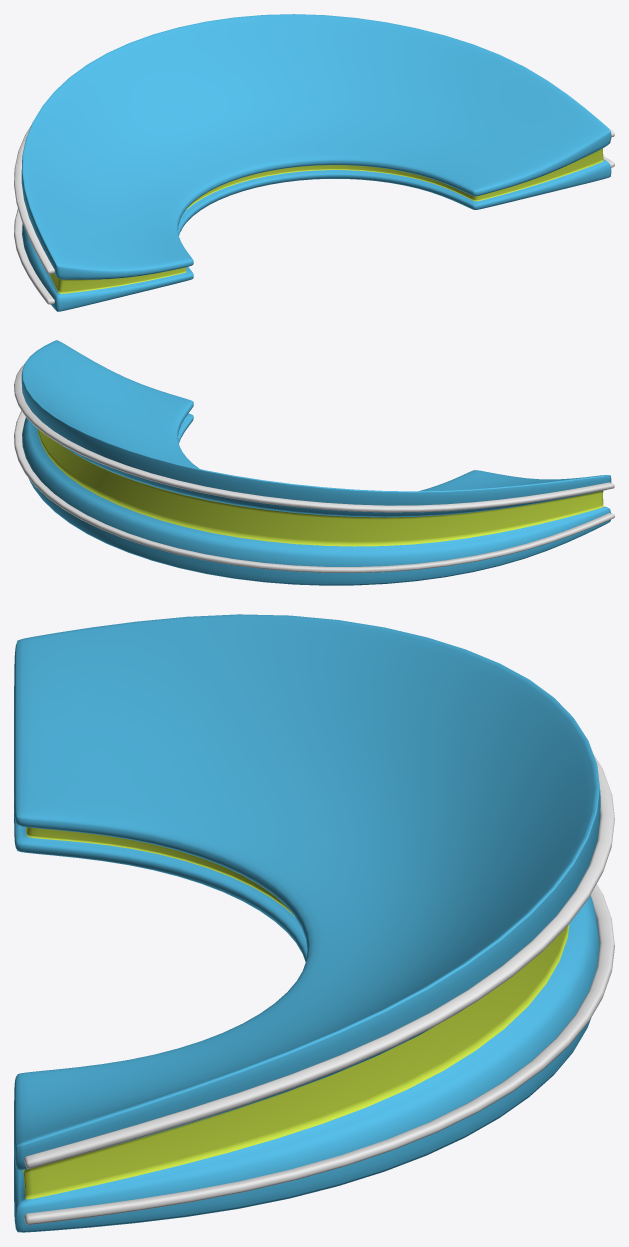
Rendered from SM_CurvePlatform01.fbx.
The picture shows the model from 3 angles, top to bottom: view 1: azimuth 30°, elevation 25°; view 2: azimuth 150°, elevation 25°; view 3: azimuth 270°, elevation 25°; orthographic projection. The views are drawn at different scales.
Visible parts, largest first — view 1: Cube.021, Cube.024; view 2: Cube.021, Cube.024; view 3: Cube.021, Cube.024.
Boxes of the visible parts, box(x1,y1,x2,y2) form: Cube.021: box(21, 14, 611, 311); Cube.024: box(14, 125, 614, 304); Cube.021: box(21, 340, 611, 585); Cube.024: box(14, 365, 614, 572); Cube.021: box(14, 614, 600, 1232); Cube.024: box(24, 754, 614, 1224).
Size of the model in its own units: 40.7 by 7.22 by 19.95.
